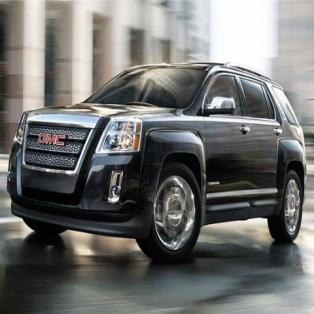Auto: (3, 61, 308, 266)
